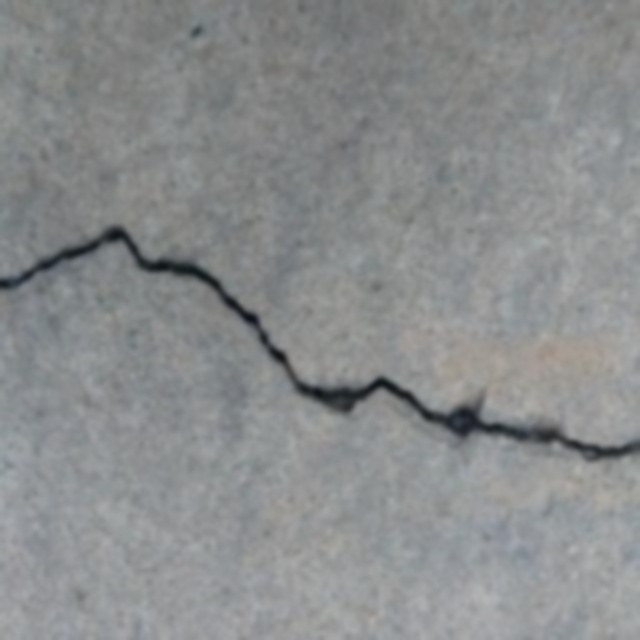SurfaceCrack: (4, 216, 640, 474)
